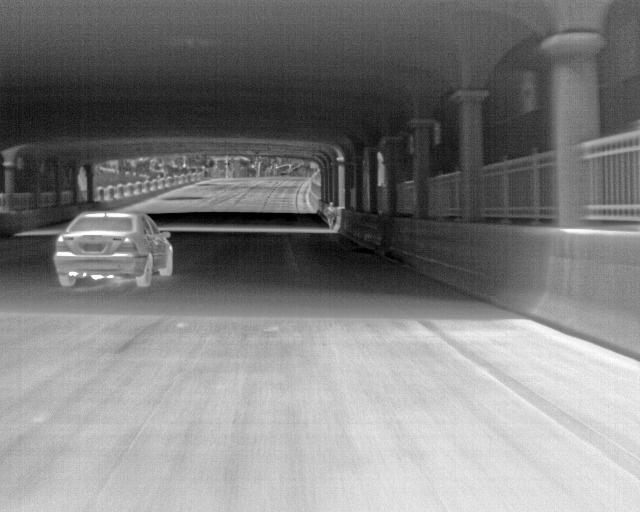bicycle: (51, 208, 176, 288)
empty: (325, 201, 338, 231)
